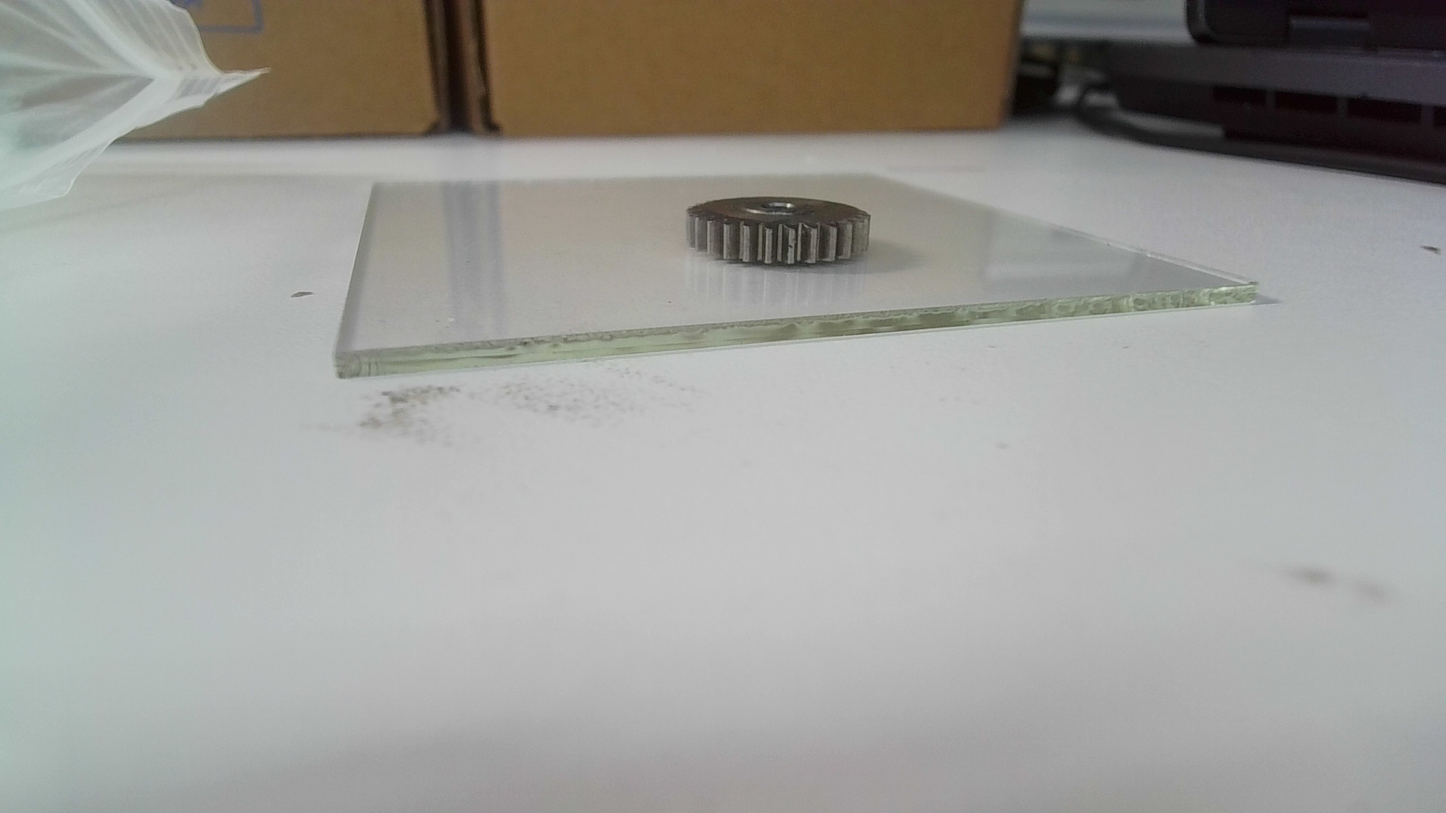gear: (681, 192, 876, 270)
